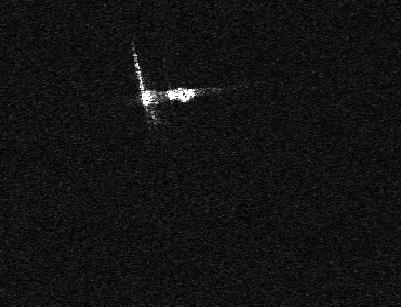ship: (136, 84, 198, 105)
